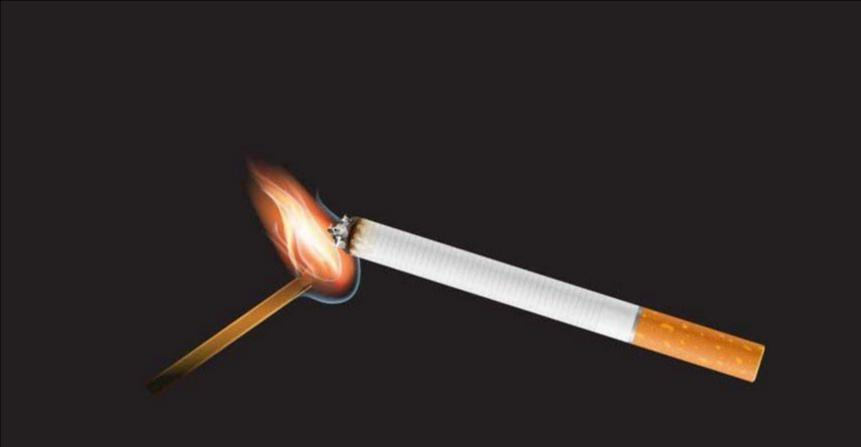Cigarette: (330, 210, 765, 381)
